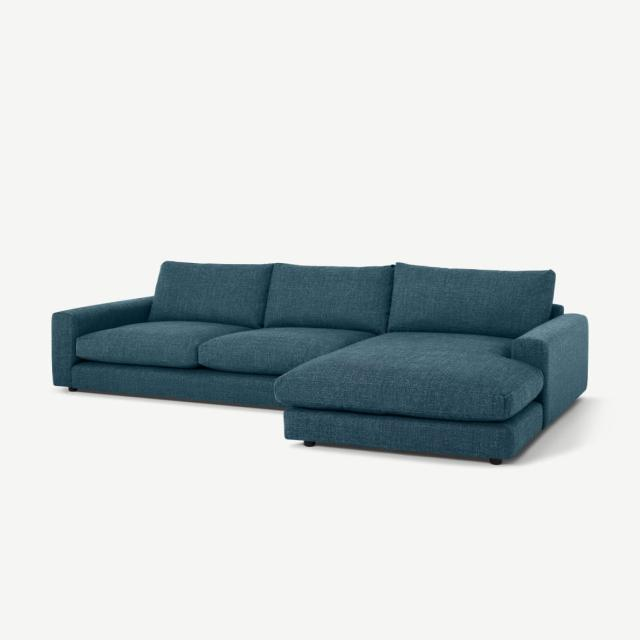Soffa: (54, 254, 597, 471)
